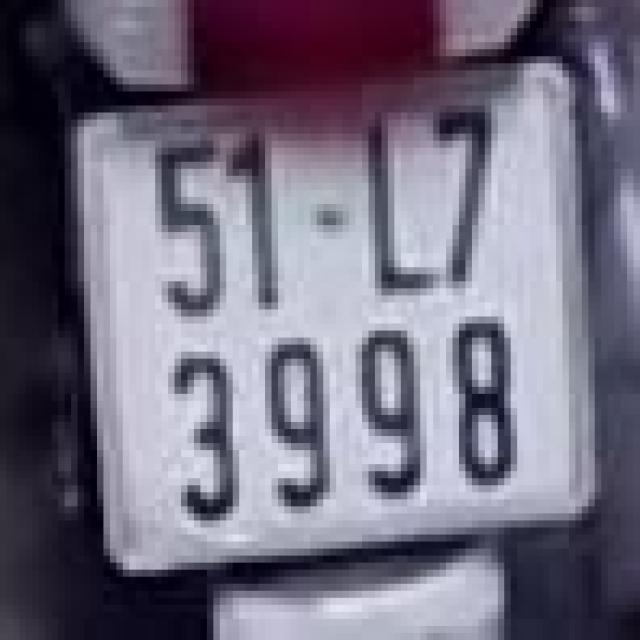1: (230, 120, 300, 302)
3: (165, 330, 249, 534)
5: (146, 134, 230, 324)
7: (423, 92, 514, 288)
8: (440, 302, 543, 500)
9: (349, 313, 433, 510), (252, 327, 336, 517)
L: (336, 102, 440, 292)
